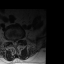CCS_normal: (14, 39, 16, 46)
LFS_stenosis: (18, 37, 20, 42)
LLS_normal: (16, 39, 18, 45)
RFS_stenosis: (10, 38, 12, 44)
RLS_normal: (12, 39, 14, 45)
